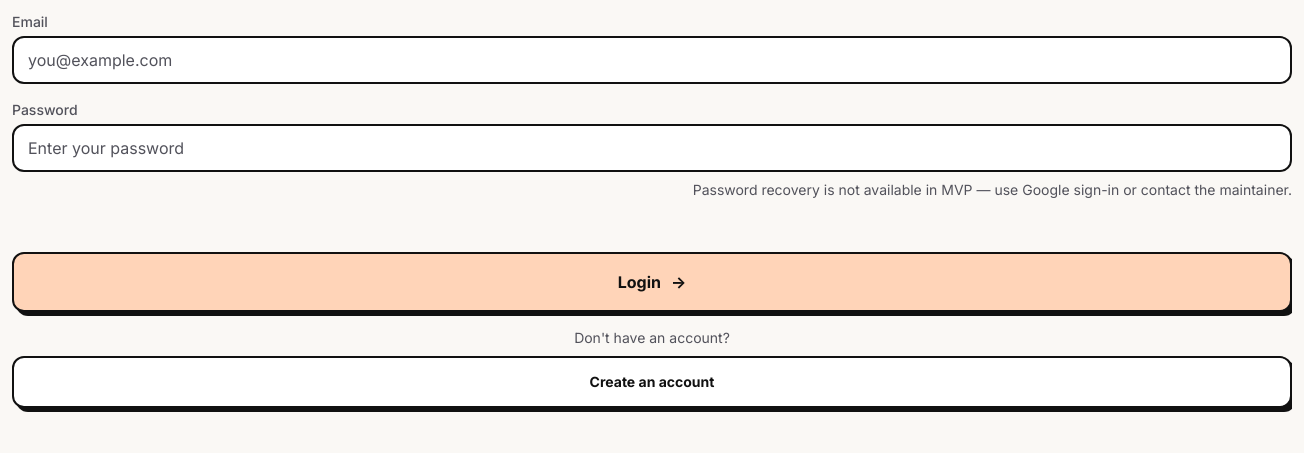
LoginForm › should map API field details to inline errors
The width and height of the screenshot is (1304, 453).
Type "test@example.com" into the field labelled "Email".
click(652, 60); type("test@example.com")  # box [12,36,1292,84]
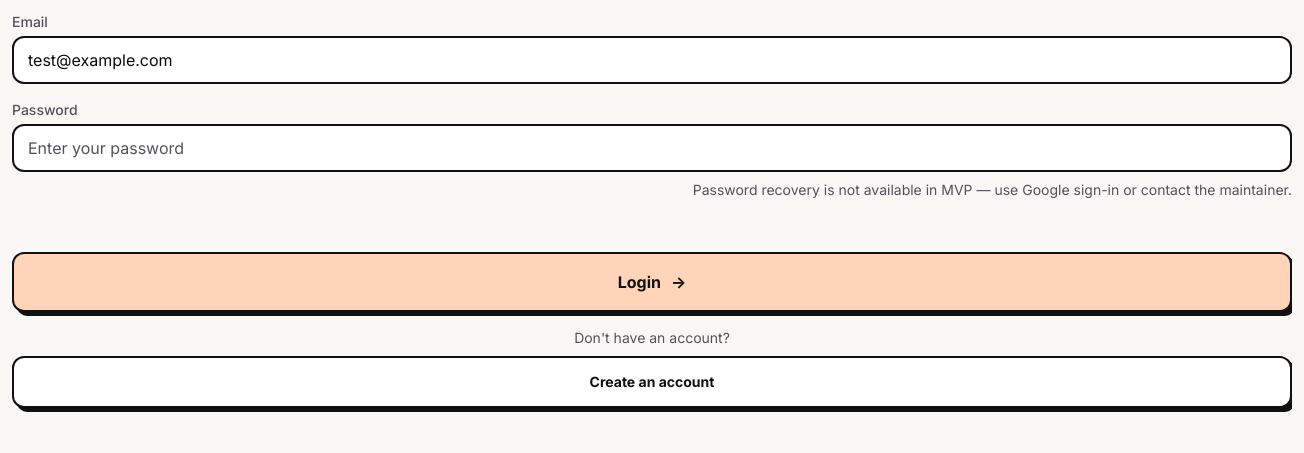
Type "password123" into the password field labelled "Password".
click(652, 148); type("password123")  # box [12,124,1292,172]
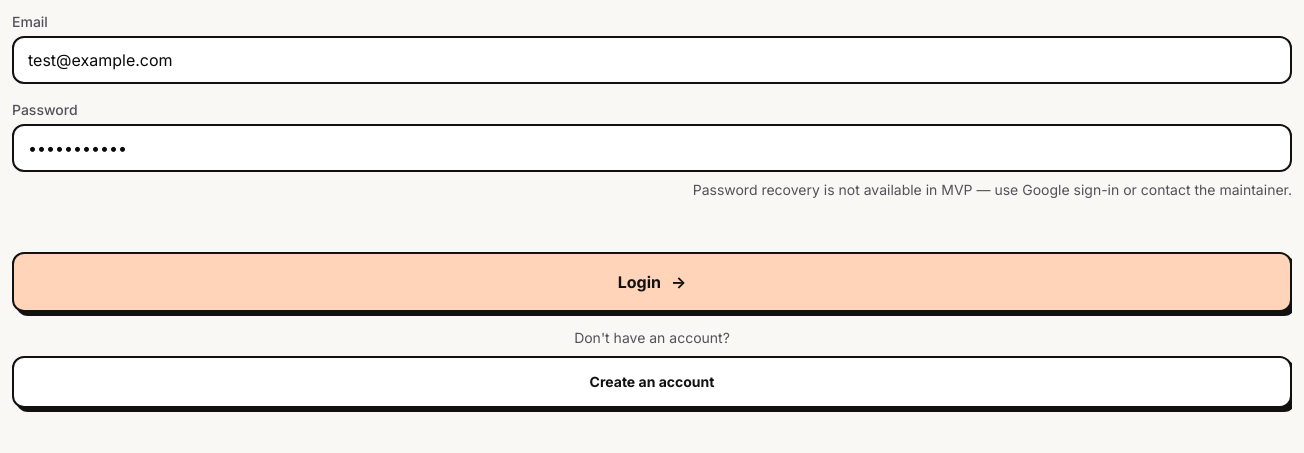
Click the button "Login →".
click(652, 282)  # box [12,252,1292,312]
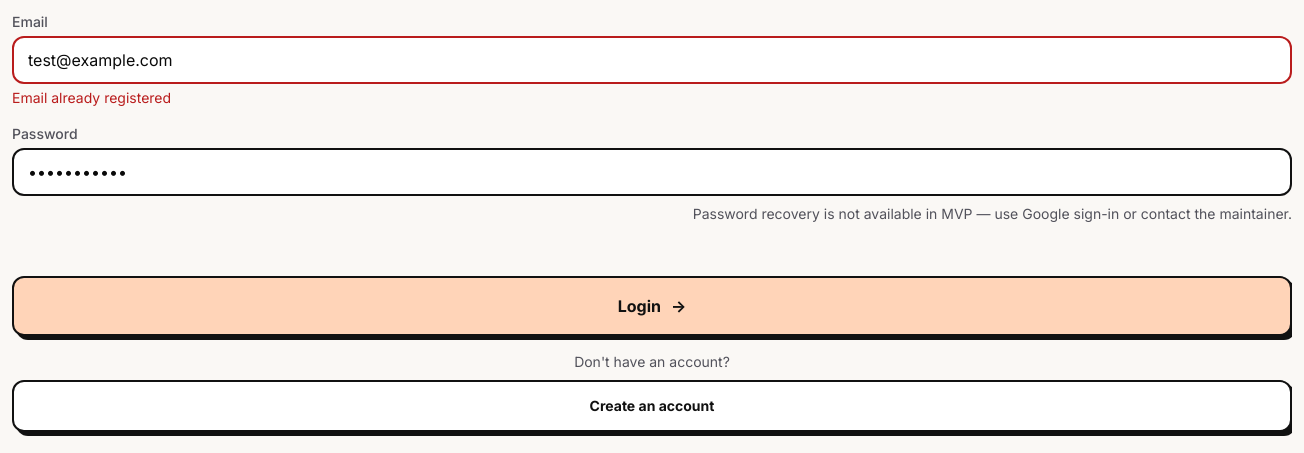
expect the text "Email already registered" is shown: met, box [12,89,171,106]
